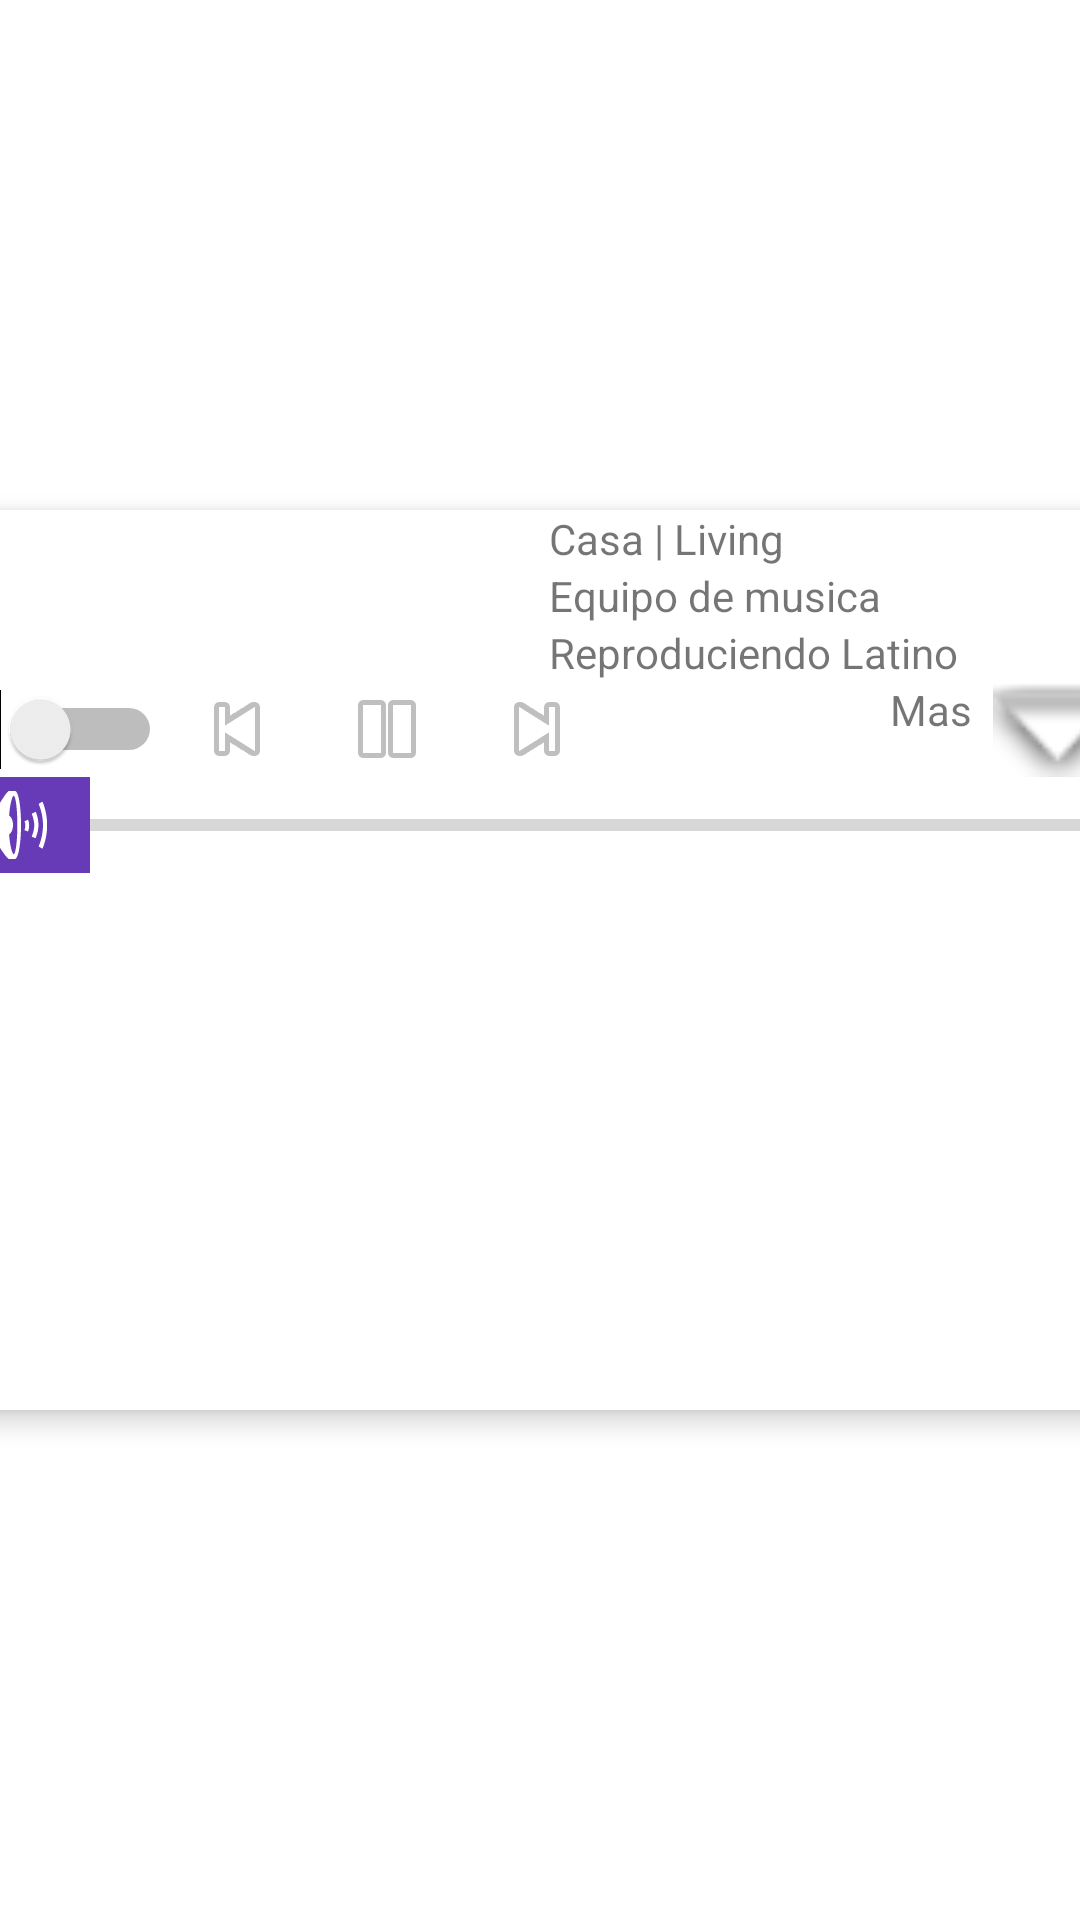

Icons on this 1080 x 1920 Android screen, each with the point to tap as (x,y):
next: (537,729)
pause: (387,729)
previous: (237,729)
